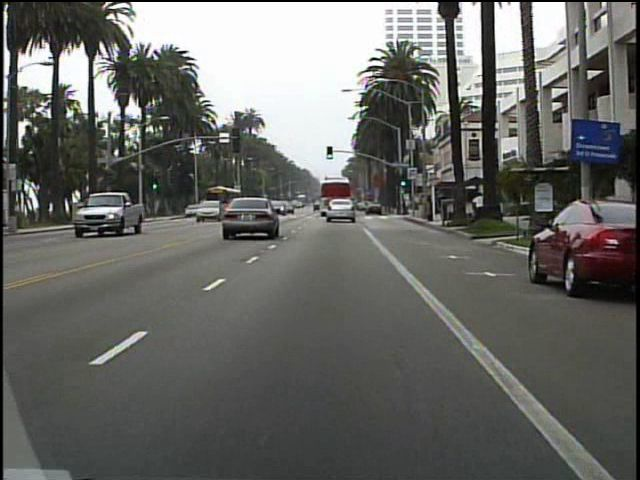person: (471, 191, 488, 225)
